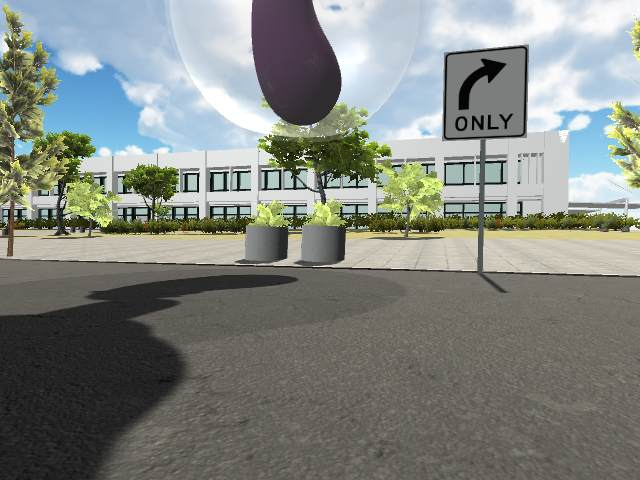arrow_right: (457, 57, 507, 112)
